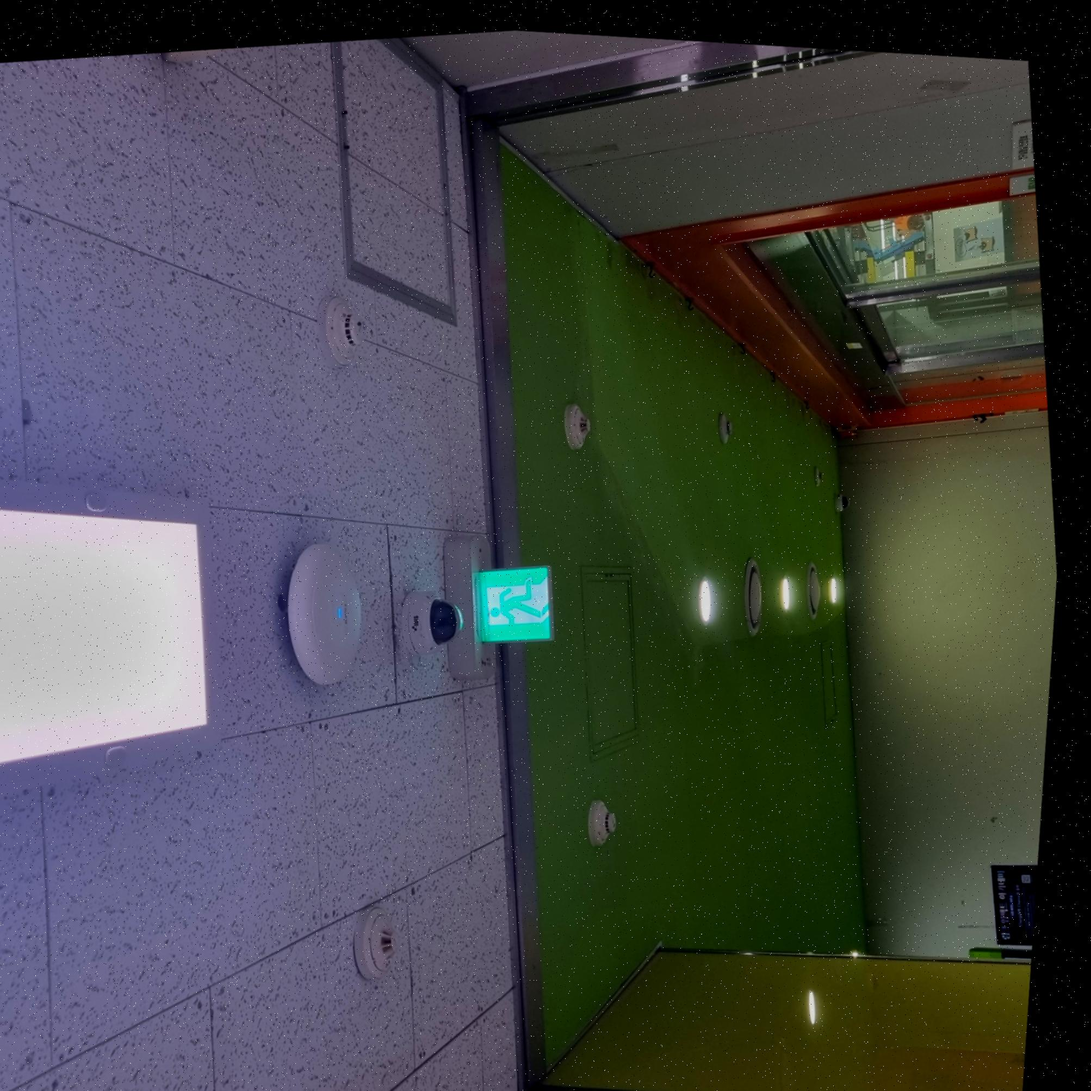emergency_exit: (474, 564, 554, 644)
